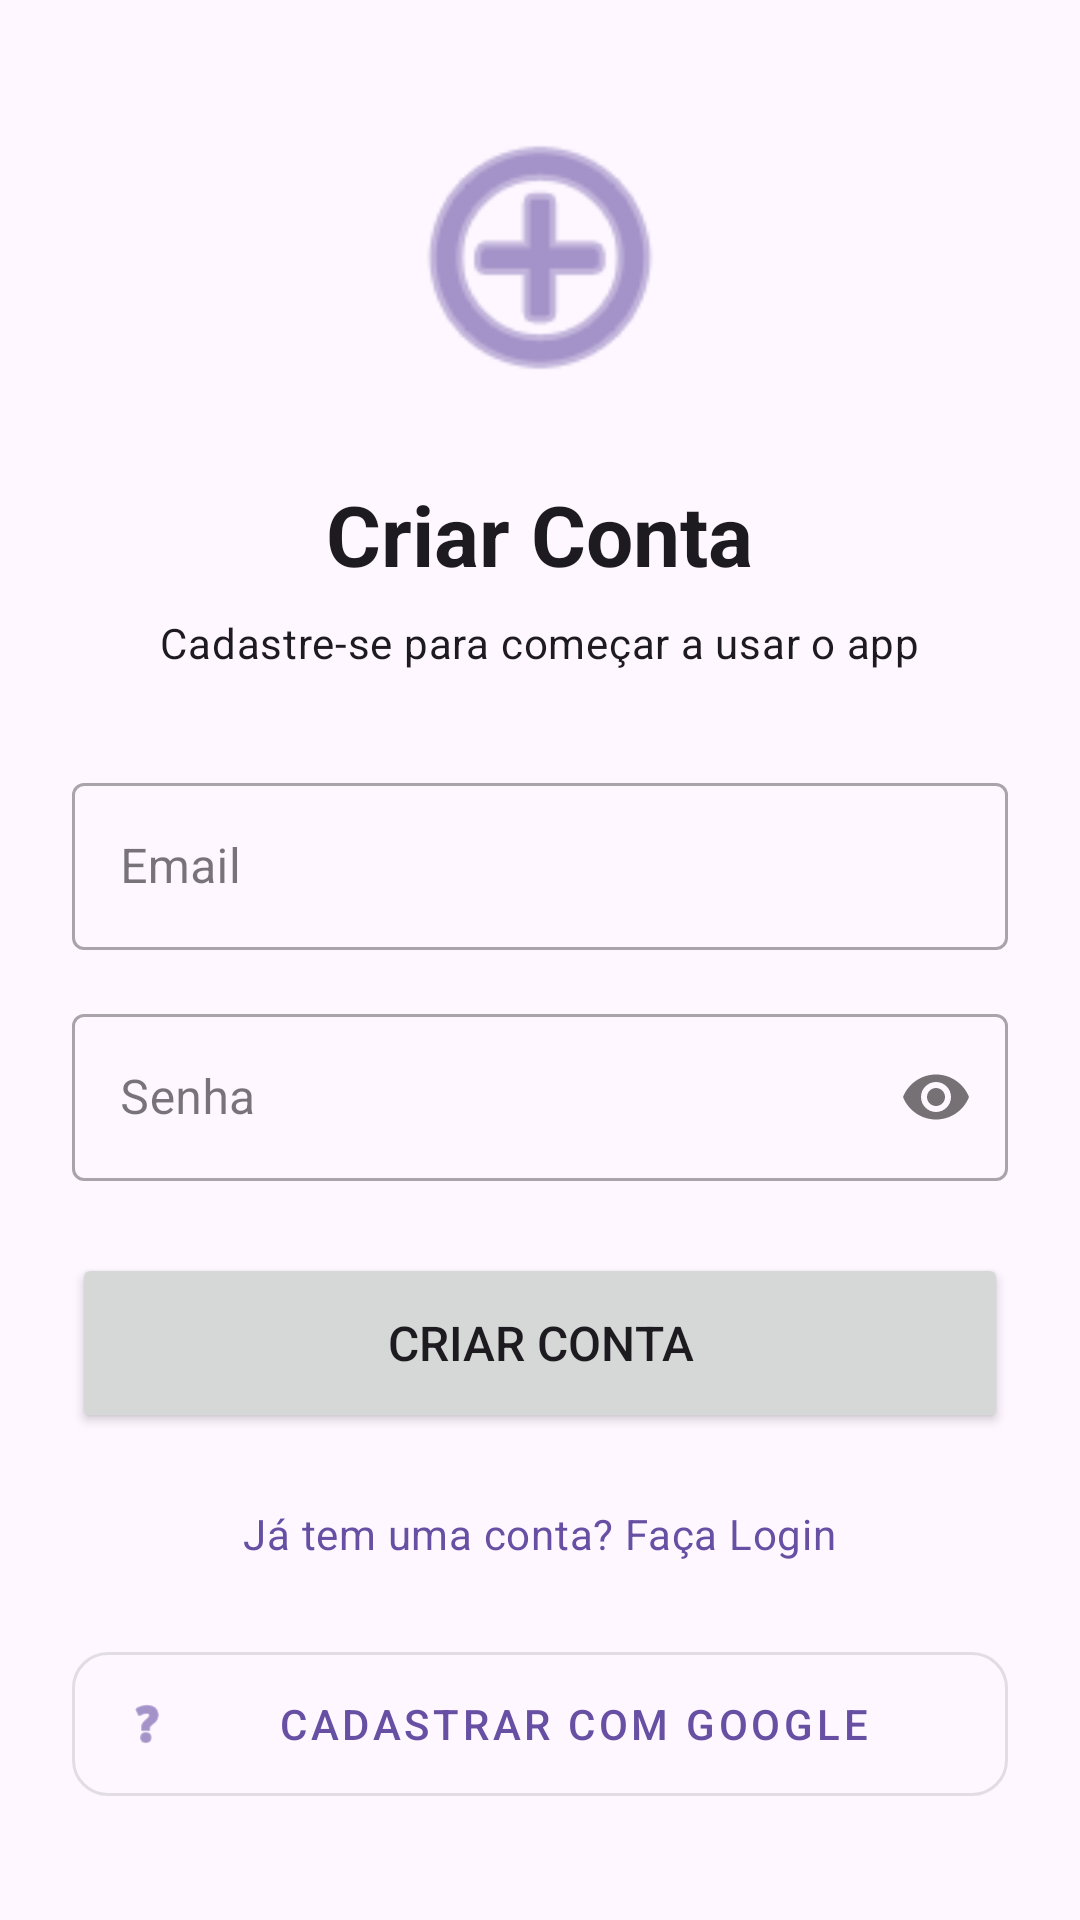

Named icons in this screenshot (1080px x 1920px) and their bounding boxes, bbox(x1, y1, x2, y2):
add: bbox(429, 146, 651, 369)
